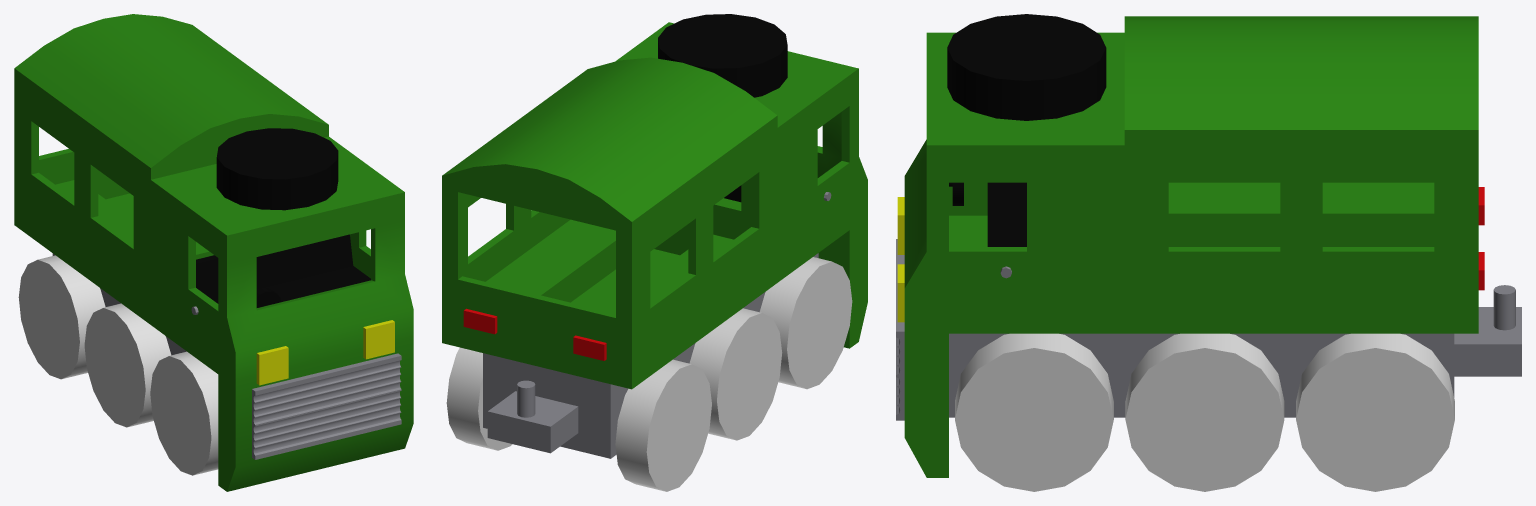
Rendered from ToyVehiclesFreeTruck.fbx.
3 renders of one model, left to right at view 1: azimuth 30°, elevation 25°; view 2: azimuth 150°, elevation 25°; view 3: azimuth 270°, elevation 25°, orthographic. The views are drawn at different scales.
Parts seen in each view (by area): view 1: ArmyTruck, ArmyTruck_Wheels2, ArmyTruck_Wheels3, ArmyTruck_Wheels1; view 2: ArmyTruck, ArmyTruck_Wheels3, ArmyTruck_Wheels1, ArmyTruck_Wheels2; view 3: ArmyTruck, ArmyTruck_Wheels2, ArmyTruck_Wheels1, ArmyTruck_Wheels3.
Boxes of the visible parts, left/top/right/bottom form: ArmyTruck: left=14, top=14, right=413, bottom=491; ArmyTruck_Wheels2: left=84, top=303, right=171, bottom=427; ArmyTruck_Wheels3: left=18, top=255, right=105, bottom=379; ArmyTruck_Wheels1: left=150, top=351, right=218, bottom=475; ArmyTruck: left=442, top=14, right=867, bottom=458; ArmyTruck_Wheels3: left=446, top=347, right=711, bottom=491; ArmyTruck_Wheels1: left=759, top=257, right=852, bottom=389; ArmyTruck_Wheels2: left=689, top=308, right=782, bottom=440; ArmyTruck: left=896, top=14, right=1521, bottom=477; ArmyTruck_Wheels2: left=1125, top=333, right=1284, bottom=491; ArmyTruck_Wheels1: left=955, top=333, right=1113, bottom=491; ArmyTruck_Wheels3: left=1296, top=333, right=1454, bottom=491.
Size of the model in its own units: 6.36 by 9.86 by 14.16.
